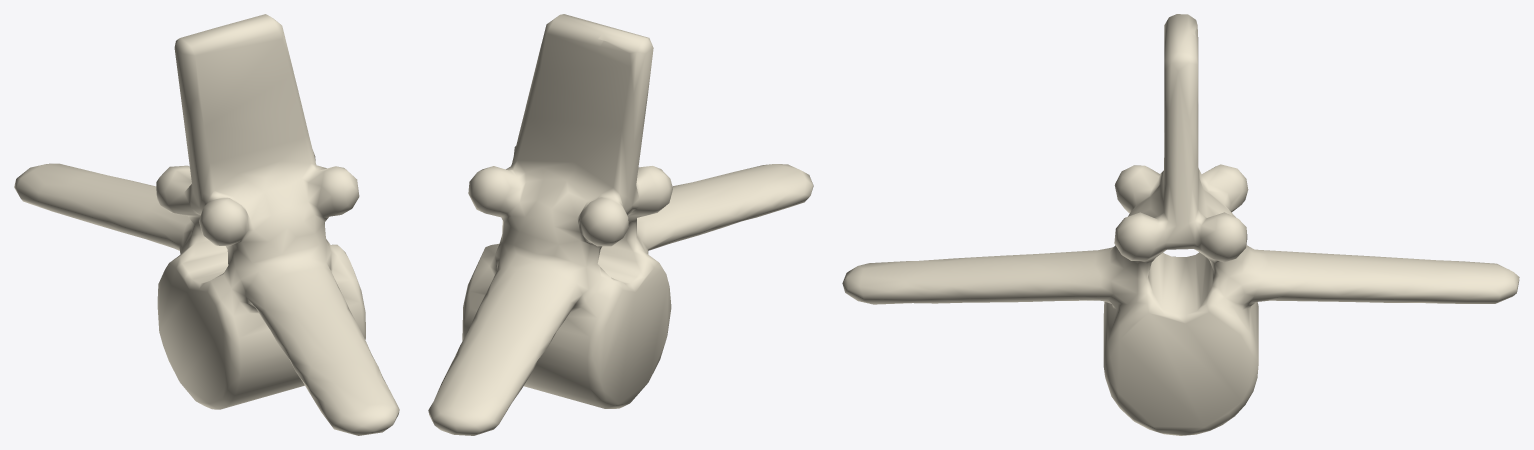
The model's file is lumbar_2.glb.
3 renders of one model, left to right at view 1: azimuth 30°, elevation 25°; view 2: azimuth 150°, elevation 25°; view 3: azimuth 270°, elevation 25°, orthographic. The views are drawn at different scales.
Visible parts, largest first — view 1: geometry_0; view 2: geometry_0; view 3: geometry_0.
Boxes of the visible parts, <box> form: geometry_0: <box>14,14,399,435</box>; geometry_0: <box>428,14,813,435</box>; geometry_0: <box>842,14,1519,435</box>.
Bounding box in the file's own units: 0.1493 × 0.3302 × 0.5592.
